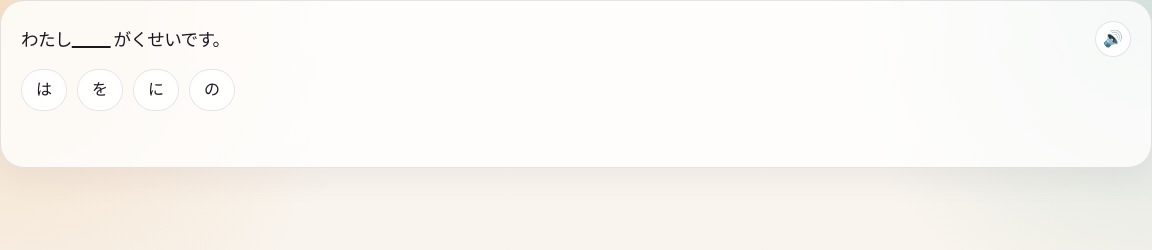
Test case: GrammarQuiz — chấm điểm › báo đúng khi chọn trúng đáp án
Click the button "は" at (44, 90), box [21, 69, 67, 111]
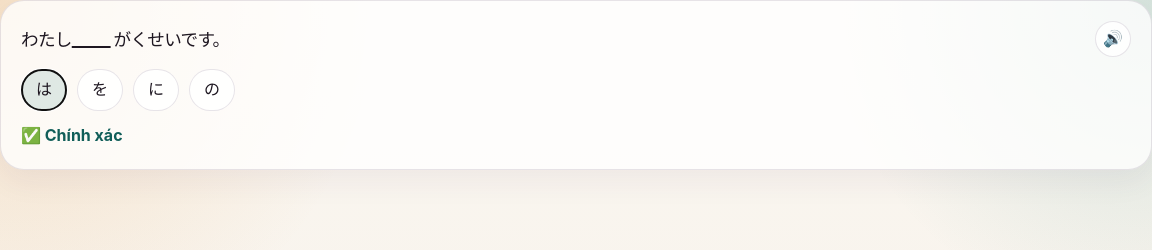
Check: the text "✅ Chính xác" is shown, box [21, 125, 123, 145]
